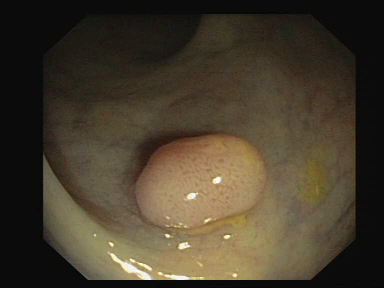polyp: (125, 124, 278, 238)
